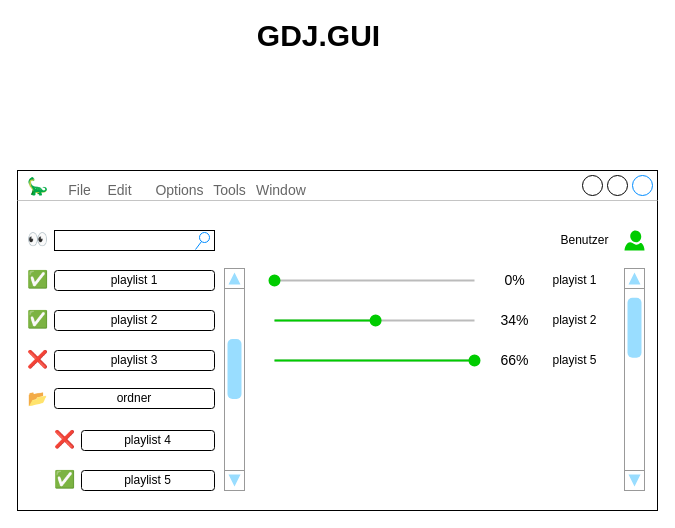
Image size: 675x528. Some labels were removed from this diagram. The centre of each missing label's shape, as x and y in pixels:
Help: the point at 334,190
Search Playlist: the point at 134,240
